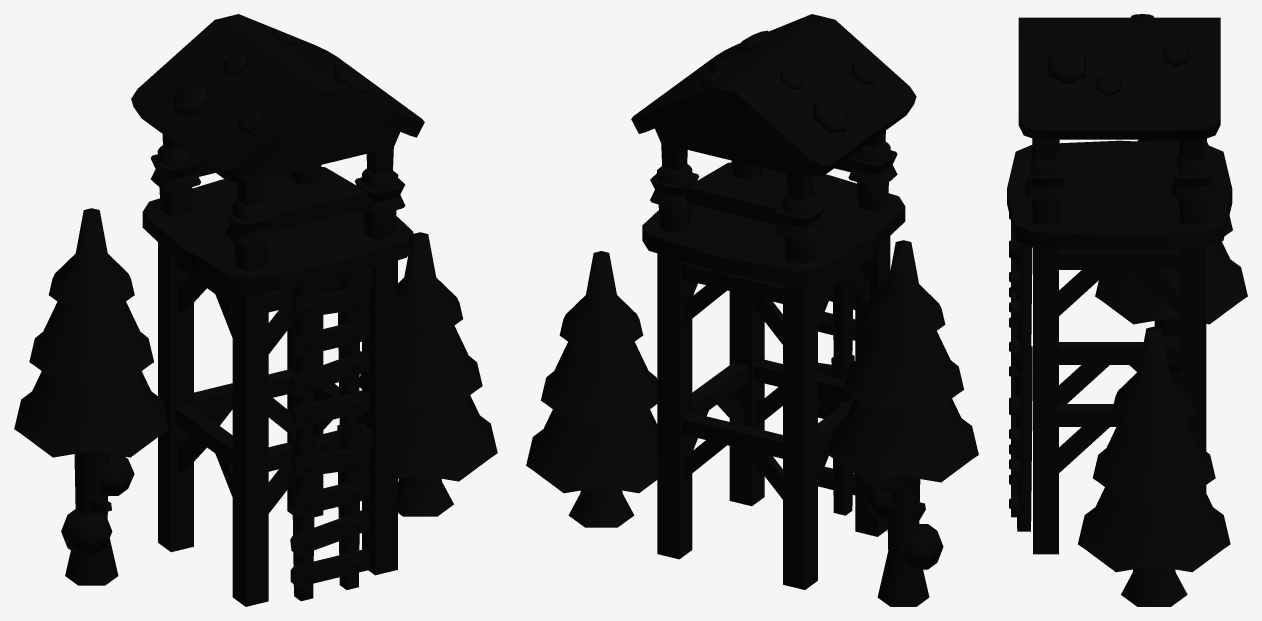
File: treehouse.glb
3 renders of one model, left to right at view 1: azimuth 30°, elevation 25°; view 2: azimuth 150°, elevation 25°; view 3: azimuth 270°, elevation 25°, orthographic. The views are drawn at different scales.
Visible parts, largest first — view 1: building-structure; view 2: building-structure; view 3: building-structure.
Part boxes in pixels (left/top/right/bottom): building-structure: left=14, top=14, right=497, bottom=606; building-structure: left=526, top=14, right=978, bottom=606; building-structure: left=1007, top=14, right=1247, bottom=606.
Bounding box in the file's own units: 3.03 × 3.15 × 1.39.
1 material, 1 textured.
